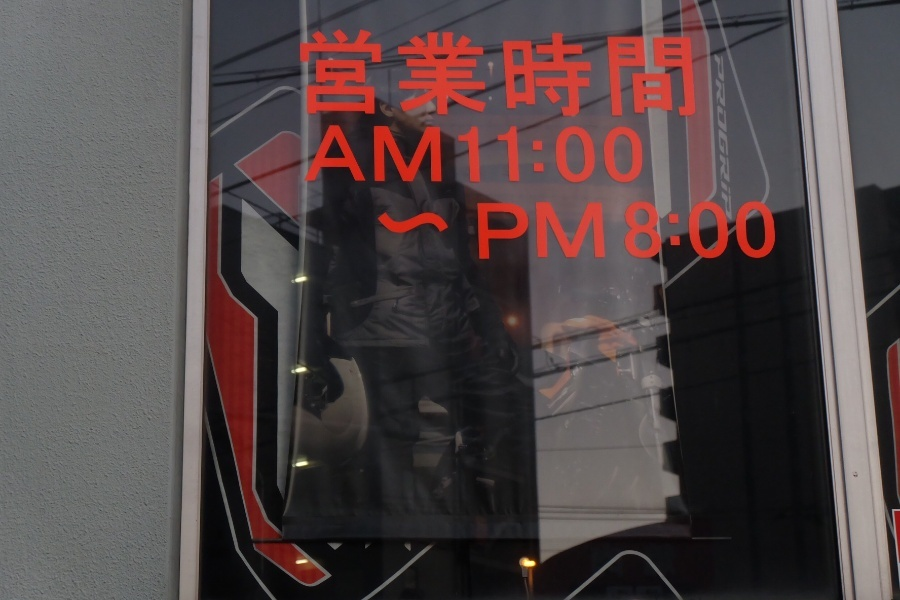text: (305, 29, 320, 121), (321, 29, 336, 121), (337, 29, 352, 121), (353, 29, 368, 121), (369, 29, 384, 121), (385, 29, 400, 121), (401, 29, 416, 121), (417, 29, 432, 121), (433, 29, 448, 121), (449, 29, 464, 121), (465, 29, 480, 121), (481, 29, 496, 121), (497, 29, 512, 121), (513, 29, 528, 121), (529, 29, 544, 121), (545, 29, 560, 121), (561, 29, 576, 121), (577, 29, 592, 121), (593, 29, 608, 121), (609, 29, 624, 121), (625, 29, 640, 121), (641, 29, 656, 121), (657, 29, 672, 121), (673, 29, 688, 121), (689, 29, 699, 121), (385, 200, 400, 261), (401, 200, 416, 261), (417, 200, 432, 261), (433, 200, 448, 261), (449, 200, 464, 261), (465, 200, 480, 261), (481, 200, 496, 261), (497, 200, 512, 261), (513, 200, 528, 261), (529, 200, 544, 261), (545, 200, 560, 261), (561, 200, 576, 261), (577, 200, 592, 261), (593, 200, 608, 261), (609, 200, 624, 261), (625, 200, 640, 261), (641, 200, 656, 261), (657, 200, 672, 261), (673, 200, 688, 261), (689, 200, 704, 261), (705, 200, 720, 261), (721, 200, 736, 261), (737, 200, 752, 261), (753, 200, 768, 261), (321, 126, 336, 185), (337, 126, 352, 185), (353, 126, 368, 185), (369, 126, 384, 185), (385, 126, 400, 185), (401, 126, 416, 185), (417, 126, 432, 185), (433, 126, 448, 185), (449, 126, 464, 185), (465, 126, 480, 185), (481, 126, 496, 185), (497, 126, 512, 185), (513, 126, 528, 185), (529, 126, 544, 185), (545, 126, 560, 185), (561, 126, 576, 185), (577, 126, 592, 185), (593, 126, 608, 185), (609, 126, 624, 185), (625, 126, 640, 185), (372, 200, 384, 261), (769, 200, 780, 261), (298, 29, 304, 121), (641, 126, 646, 185)
